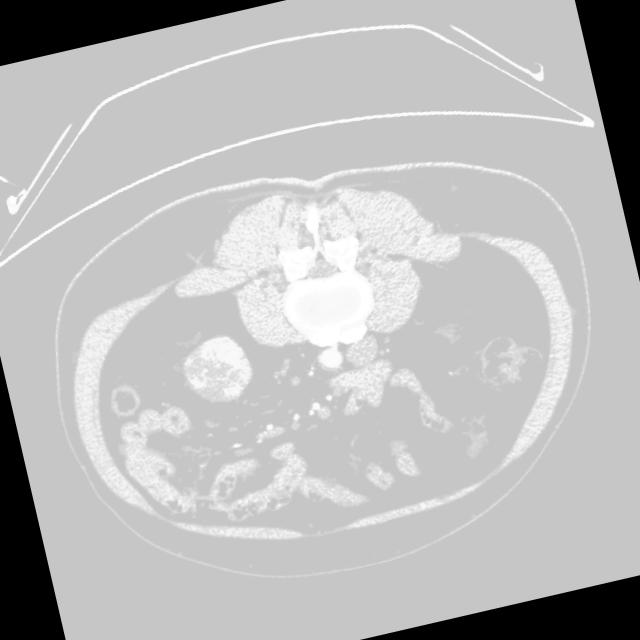TUMOR: (159, 307, 331, 486)
